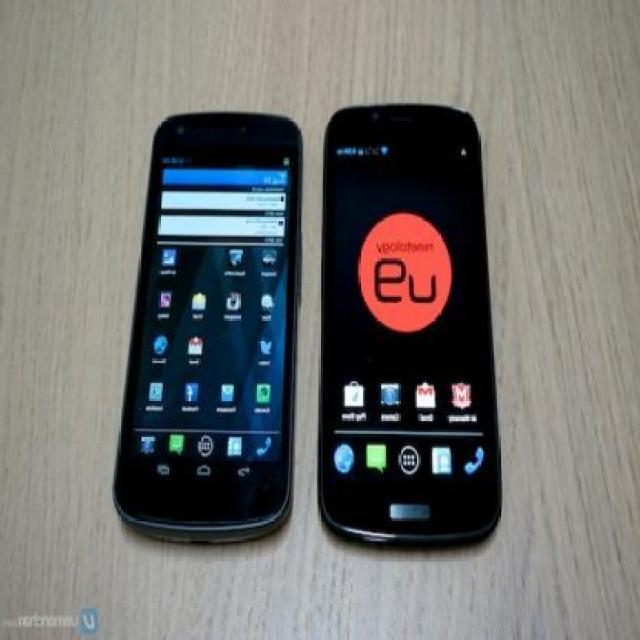phone: (112, 108, 303, 546), (320, 100, 502, 546)
